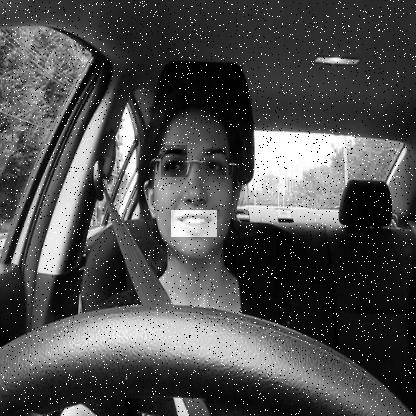seatbelt: (122, 71, 261, 416)
